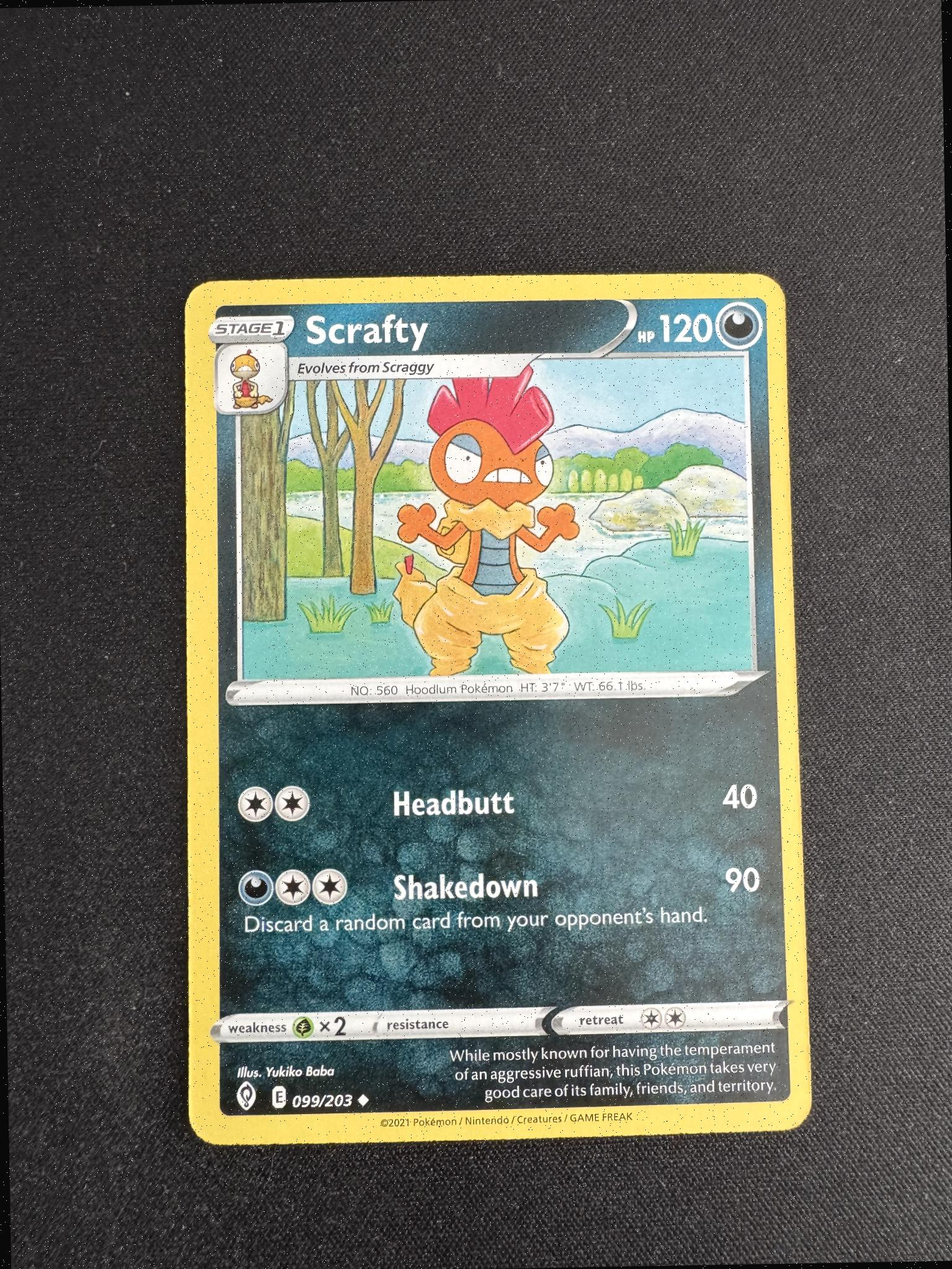card-2UtV: (184, 273, 812, 1146)
